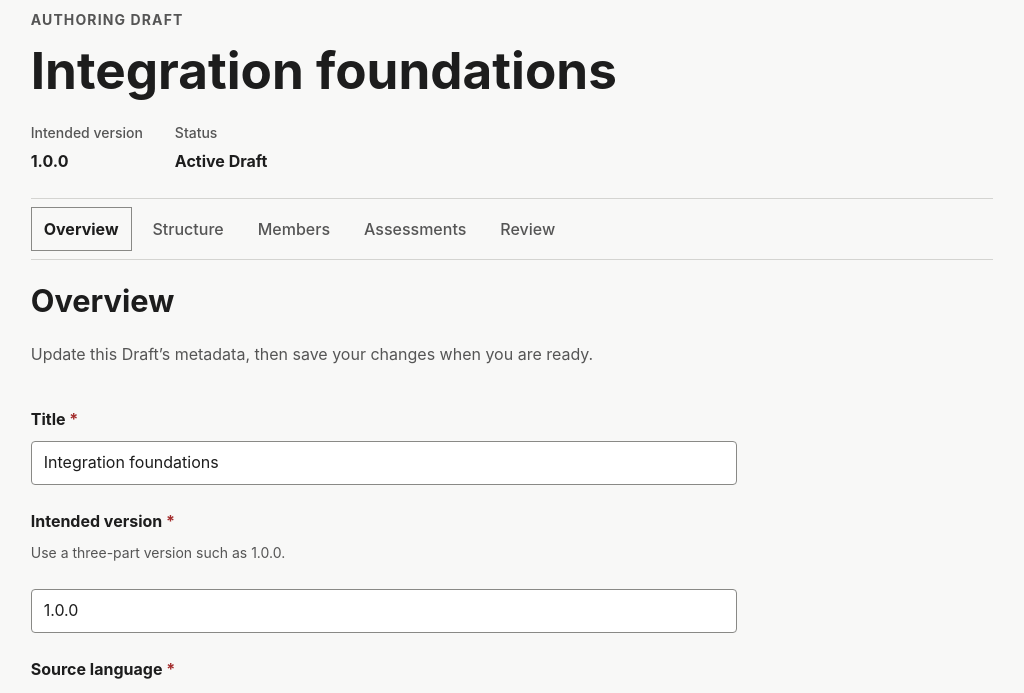
Scenario: AuthoringDraftShell › keeps Save disabled for unchanged or reverted metadata and reports client validation accessibly
Replace the text in the field labelled "Title *" with "Temporary title" at (384, 463), box [31,441,737,485]
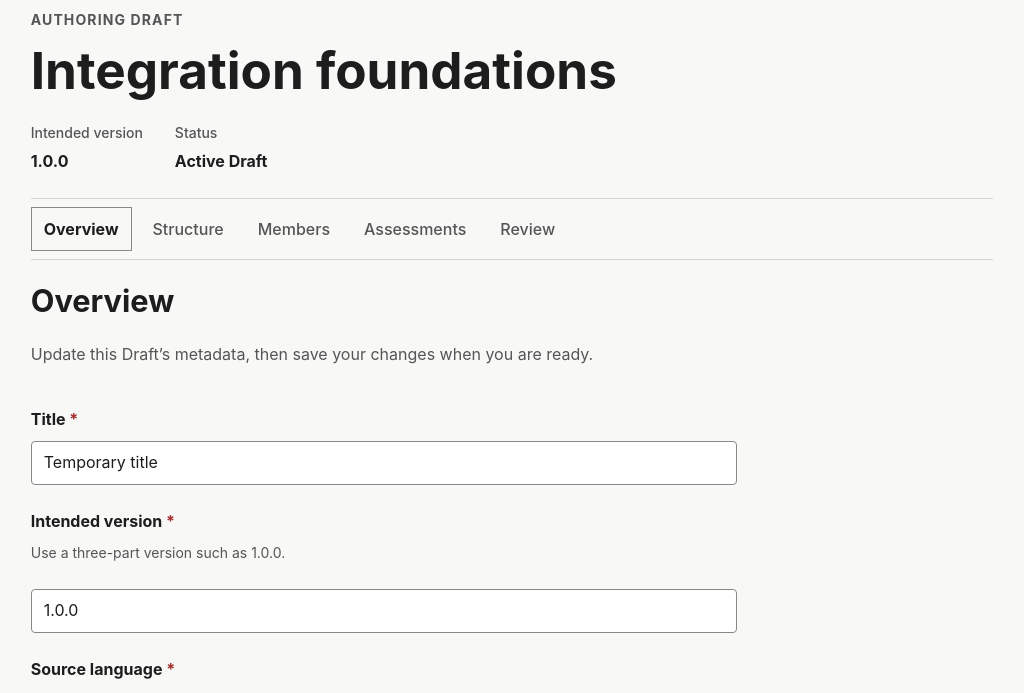
Replace the text in the field labelled "Title *" with "Integration foundations" at (384, 463), box [31,441,737,485]
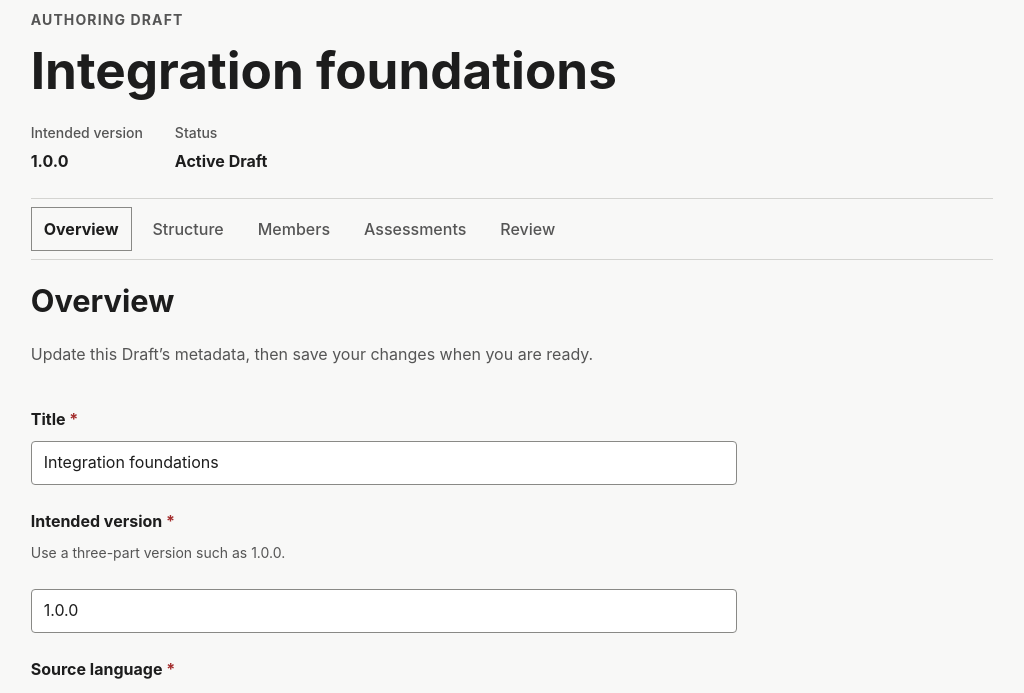
Clear the field labelled "Title *" at (384, 463), box [31,441,737,485]
(page scrolled)
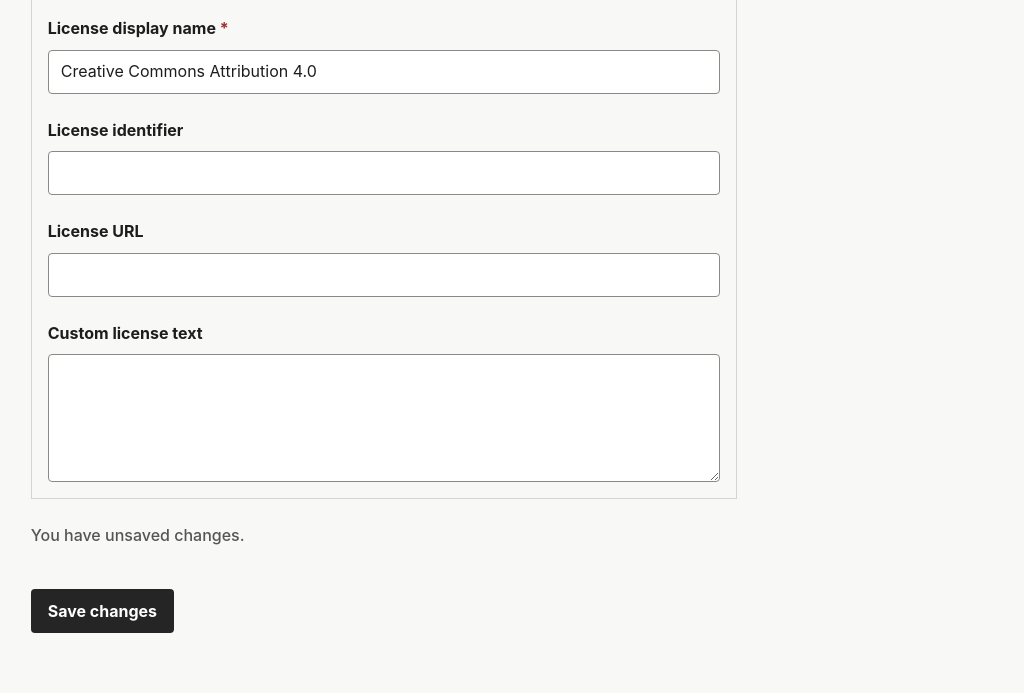
Click the button "Save changes" at (102, 611), box [31,589,174,633]
(page scrolled)
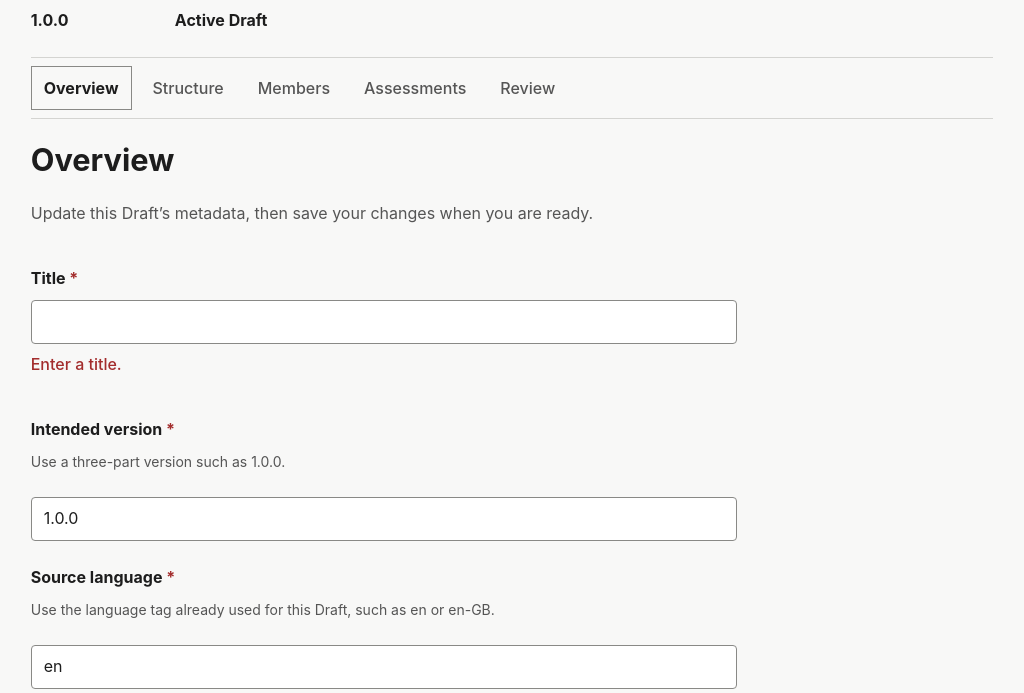
Expected: the text "Enter a title." is shown, [31,354,122,374]
